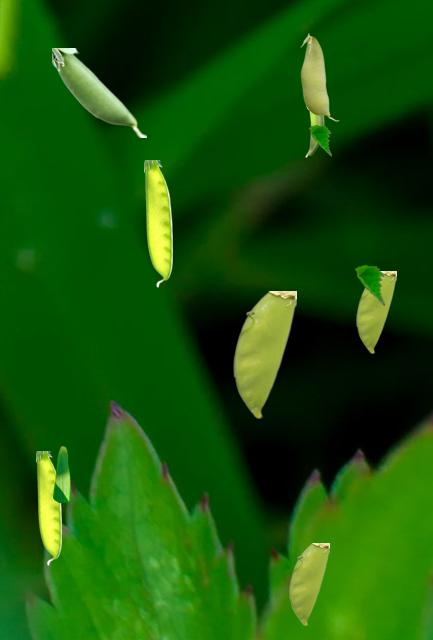pea: (52, 48, 145, 136), (233, 291, 295, 417), (144, 160, 171, 286), (300, 33, 338, 120), (289, 543, 328, 624), (356, 271, 395, 352), (36, 451, 60, 564), (305, 109, 324, 156)
